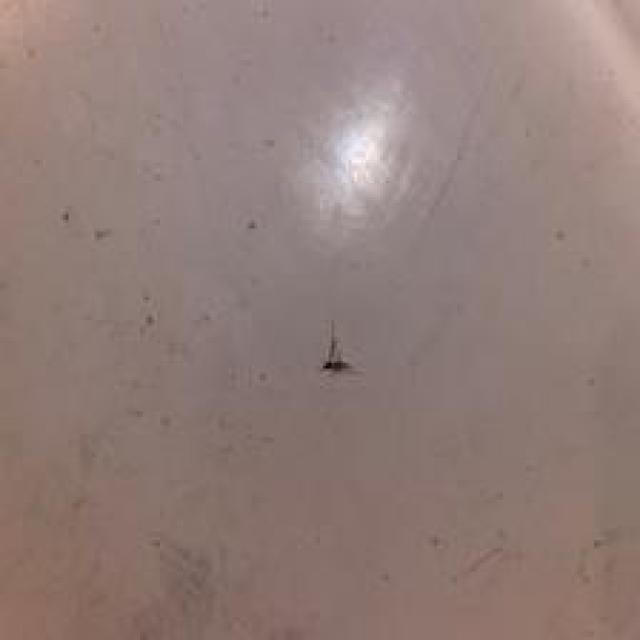Culex: (320, 318, 351, 373)
